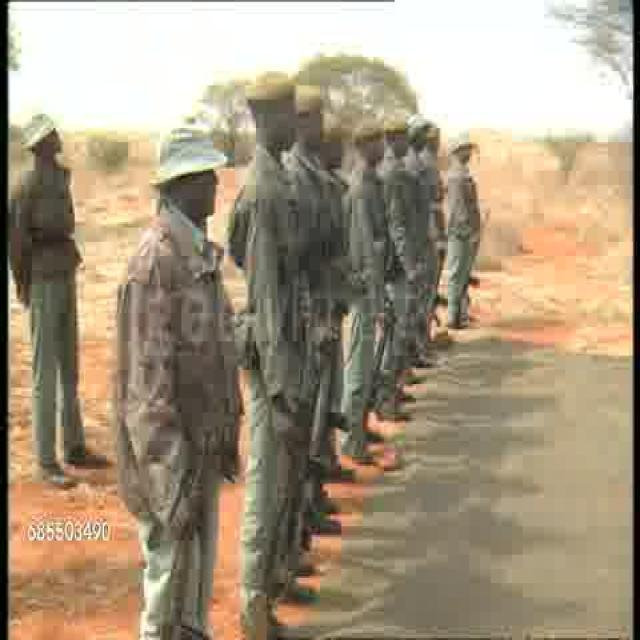poacher: (110, 108, 233, 598), (1, 96, 111, 494), (242, 64, 306, 592), (296, 79, 336, 476), (347, 121, 392, 464), (406, 112, 436, 402), (448, 121, 480, 331)
